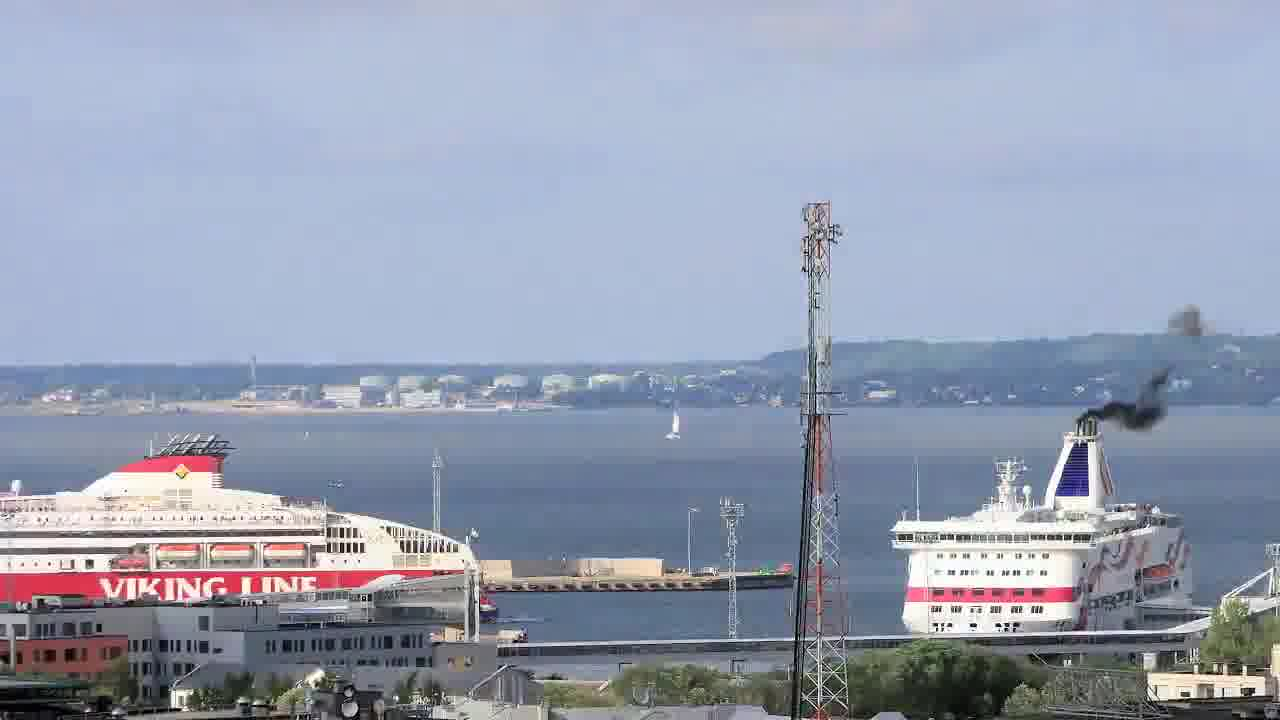type-2: (653, 395, 731, 454)
type-3: (0, 438, 500, 625), (868, 415, 1225, 638)
